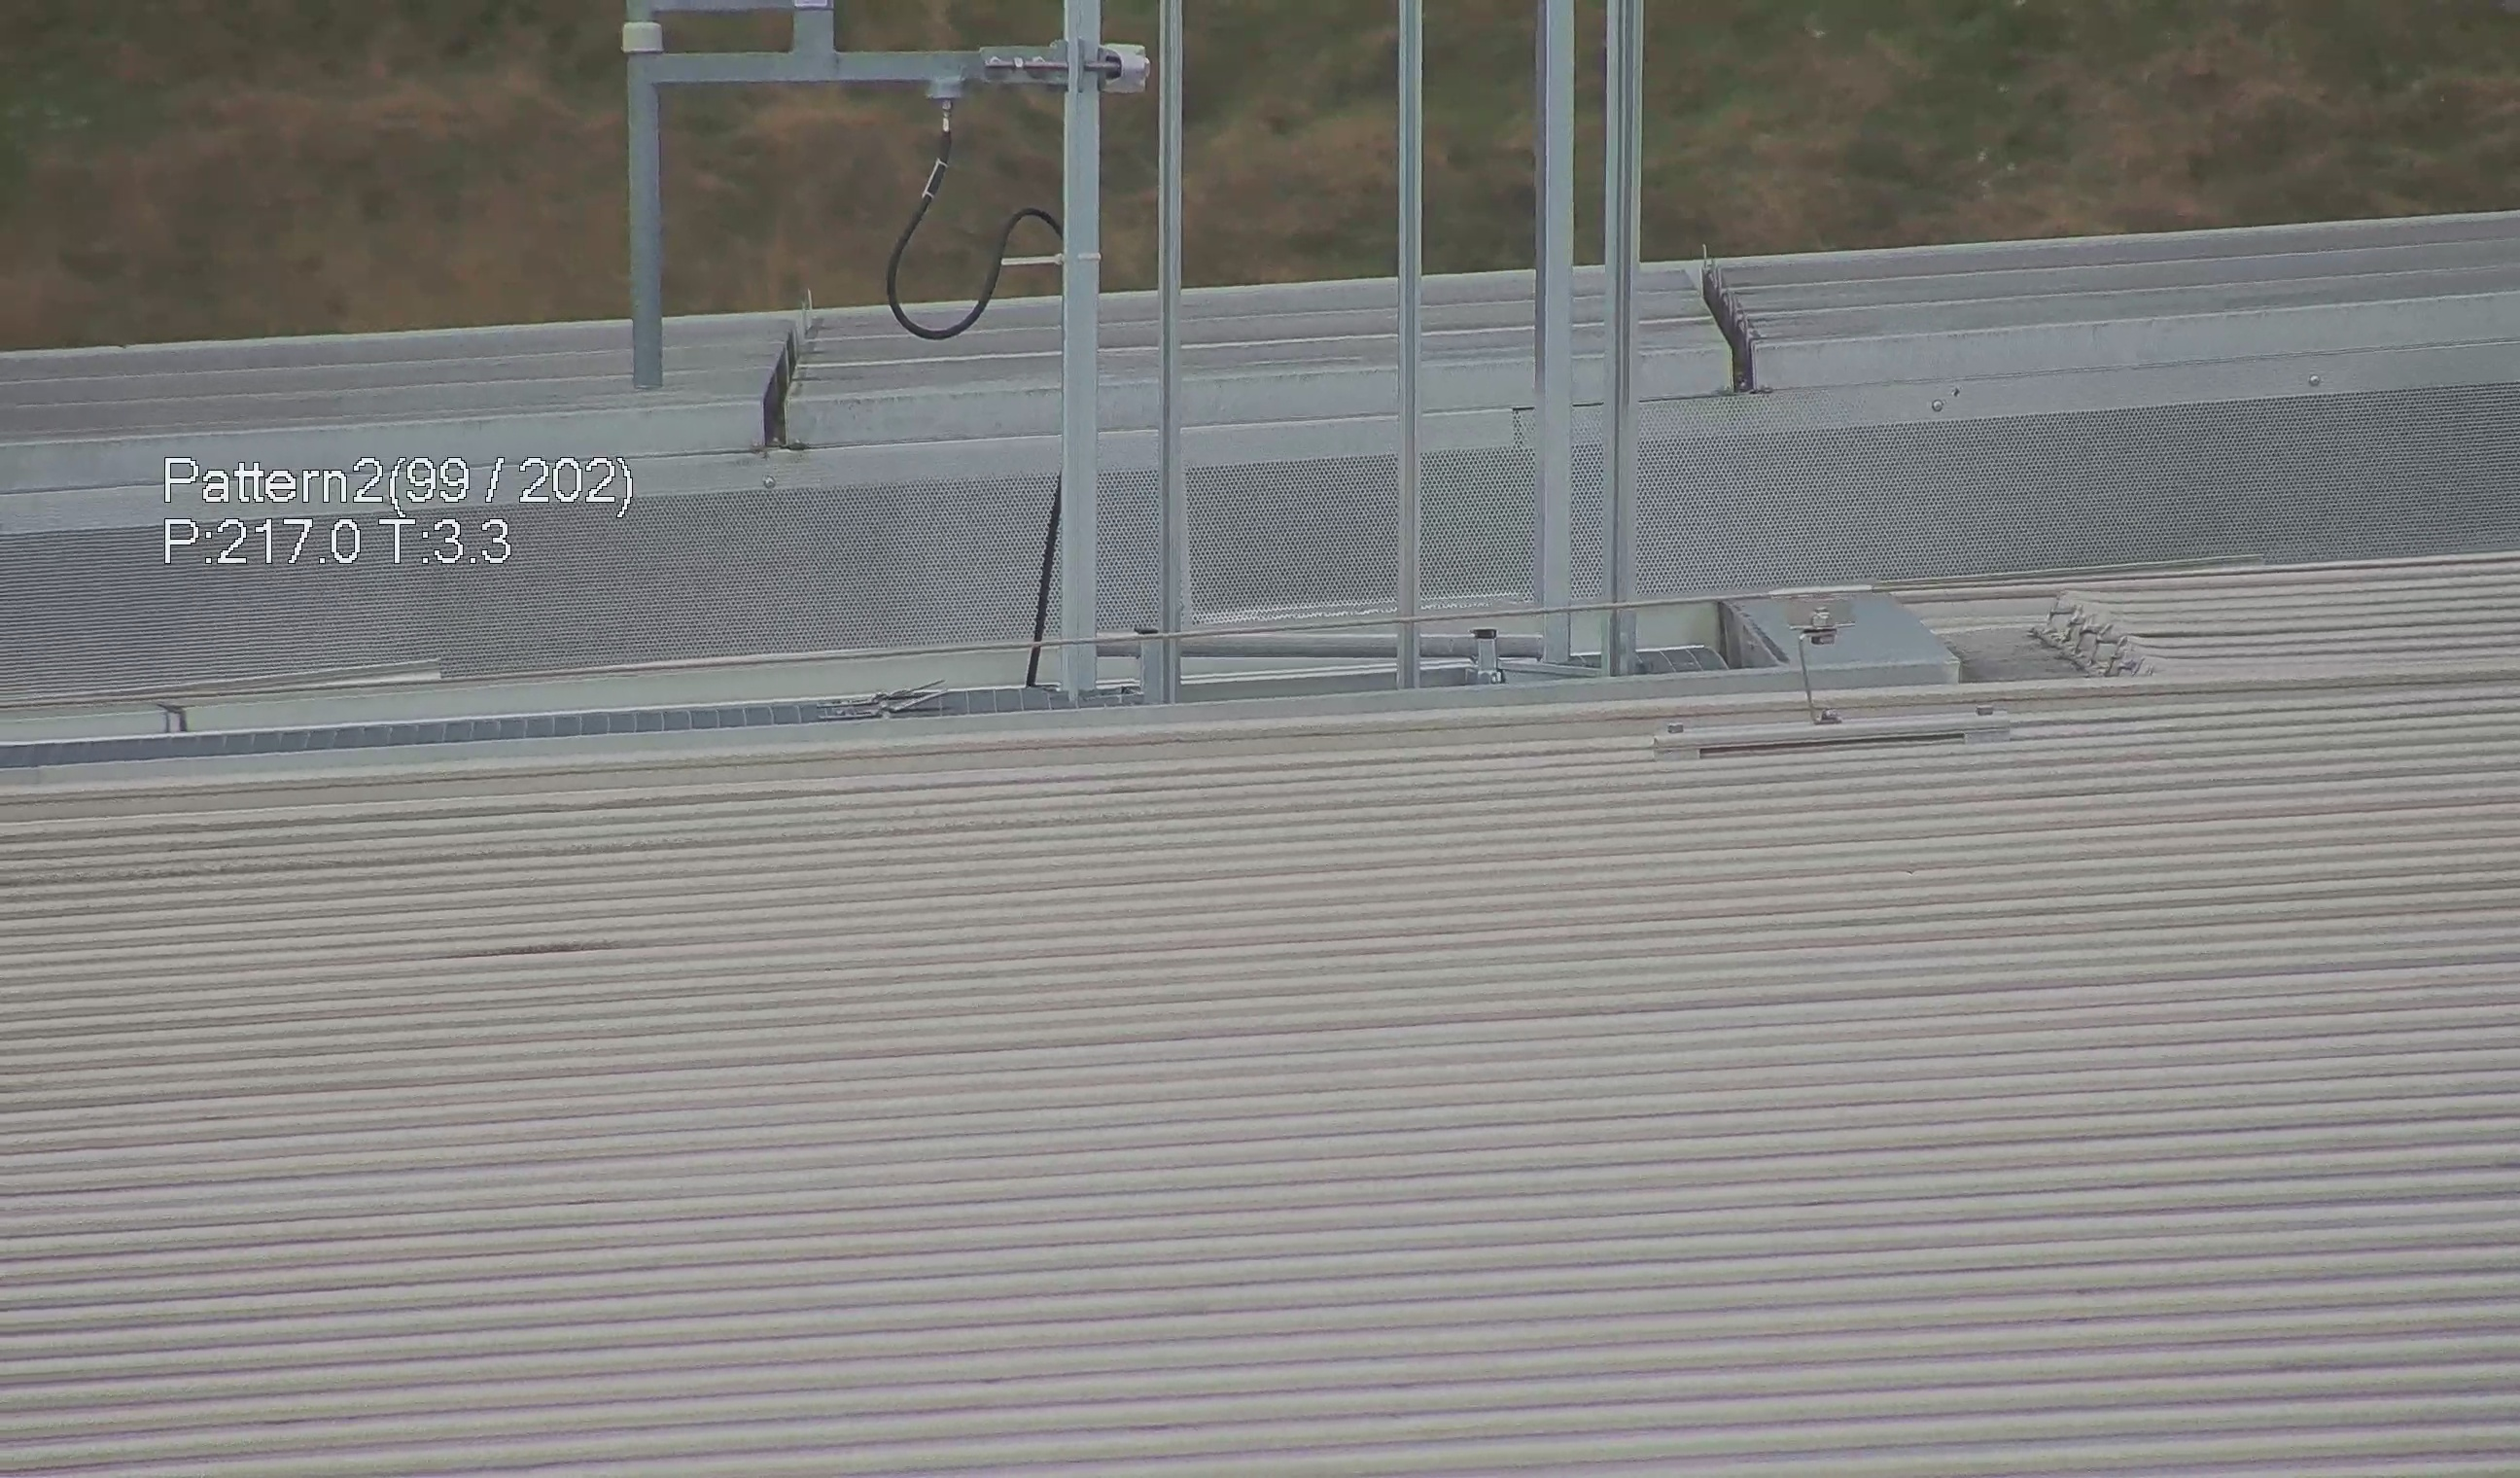Other: (1692, 246, 1780, 392)
